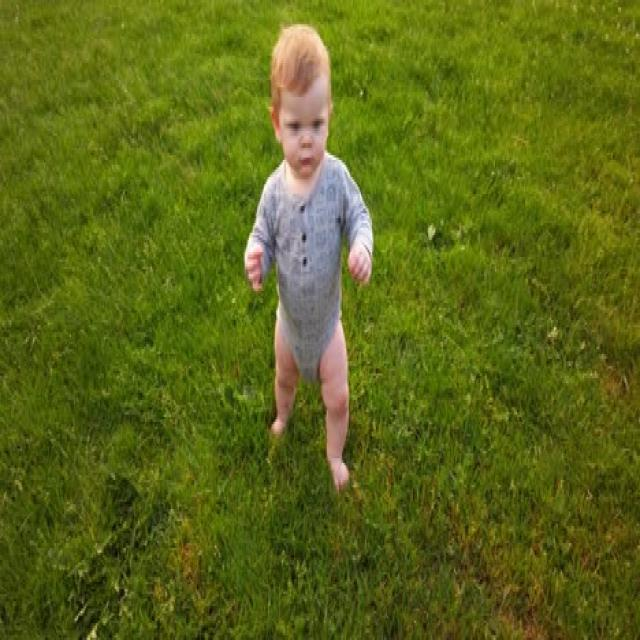Person: (243, 25, 374, 492)
